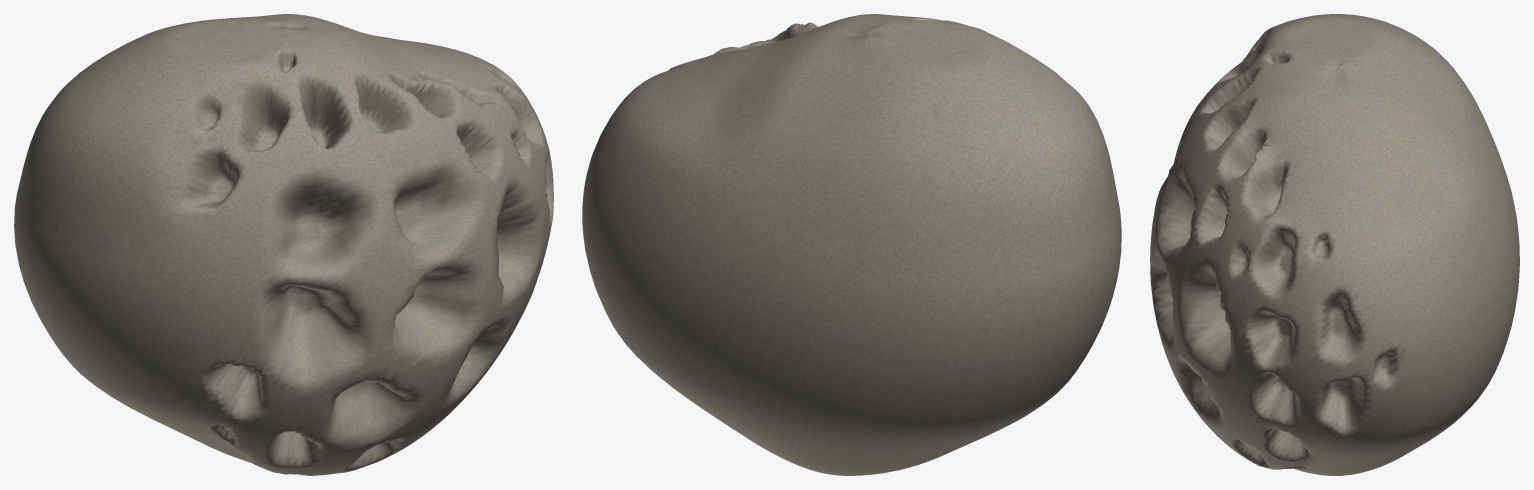
3 views of the same model, side by side, from view 1: azimuth 30°, elevation 25°; view 2: azimuth 150°, elevation 25°; view 3: azimuth 270°, elevation 25° (orthographic). The views are drawn at different scales.
Parts seen in each view (by area): view 1: NEW677_LOD1; view 2: NEW677_LOD1; view 3: NEW677_LOD1.
Part boxes in pixels (bbox=[...]): NEW677_LOD1: bbox=[14, 14, 553, 475]; NEW677_LOD1: bbox=[582, 14, 1121, 475]; NEW677_LOD1: bbox=[1150, 14, 1519, 475].
Size of the model in its own units: 1.6 by 1.35 by 1.15.
Materials: 1 (1 with a texture image).
